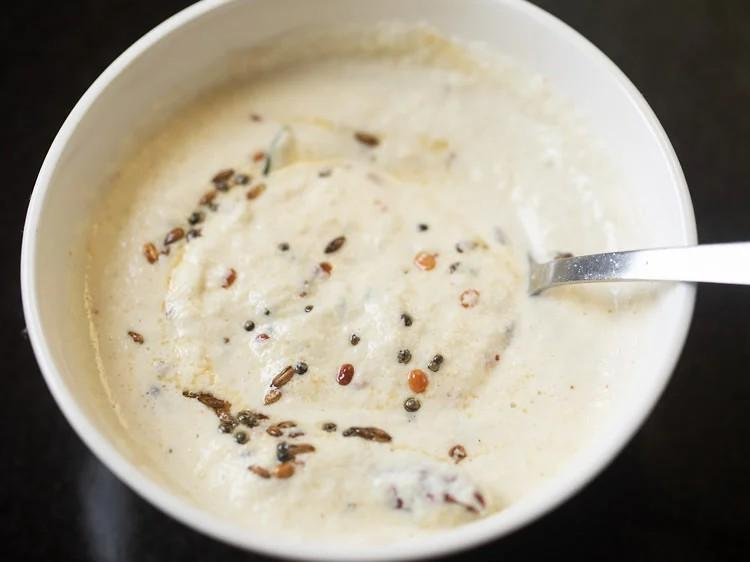CoconutChutney: (81, 56, 614, 545)
